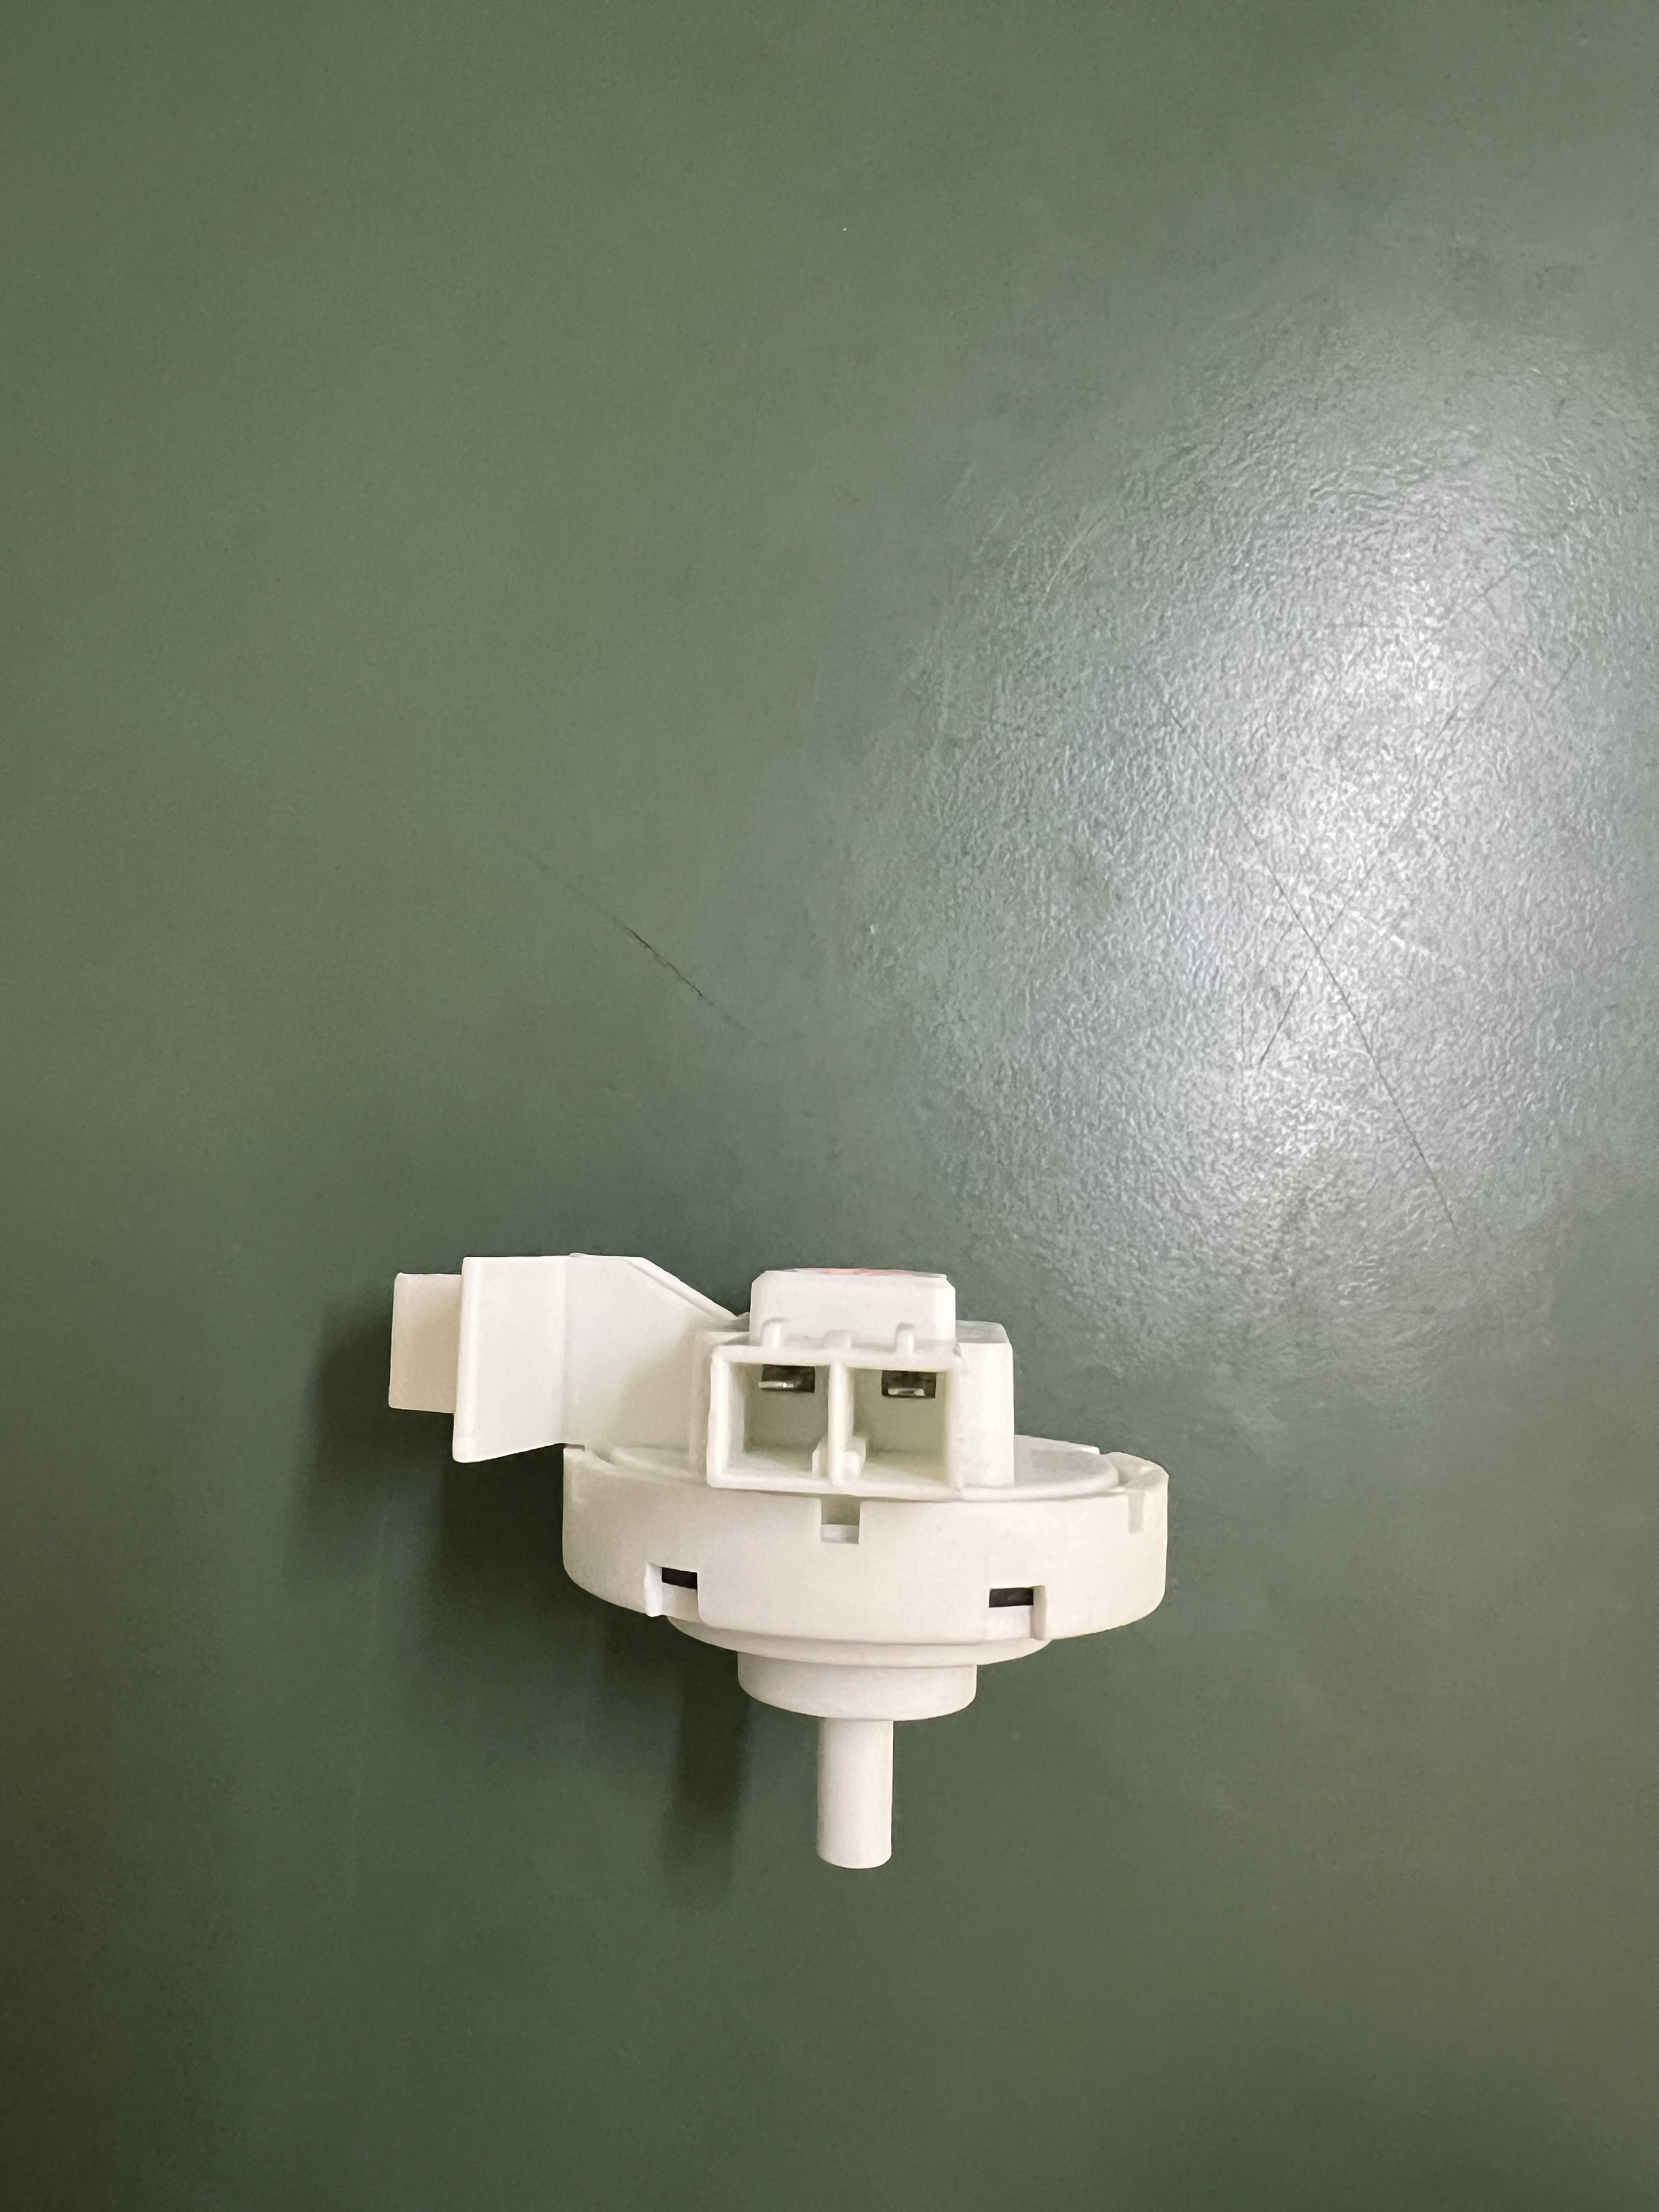pressure_switch_2: (356, 1219, 1263, 1888)
